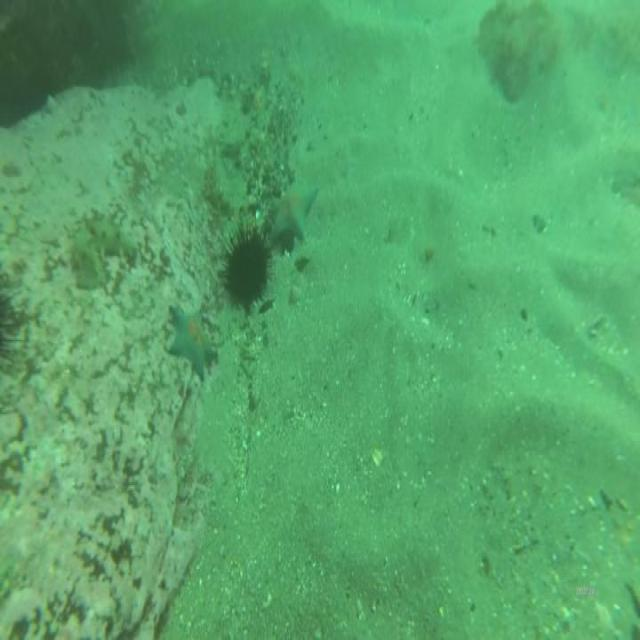echinus: (222, 223, 270, 311)
holothurian: (64, 204, 139, 283)
starfish: (166, 299, 217, 379), (268, 176, 318, 247)
